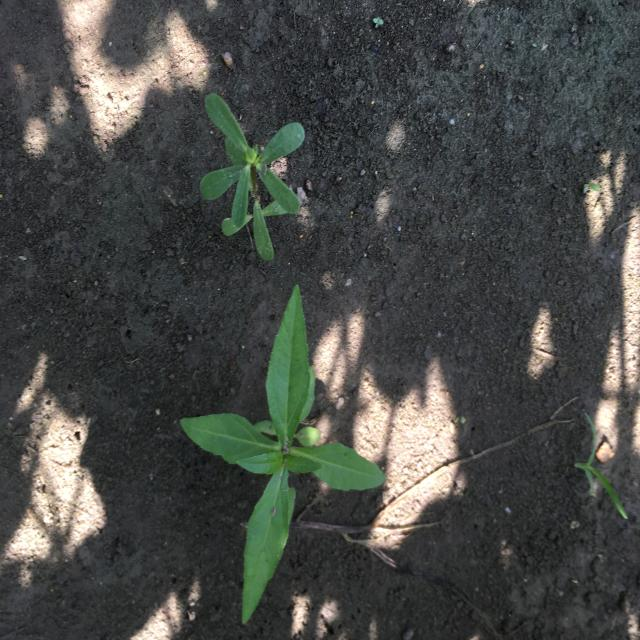Eclipta: (178, 282, 386, 628)
Purslane: (198, 89, 306, 262)
